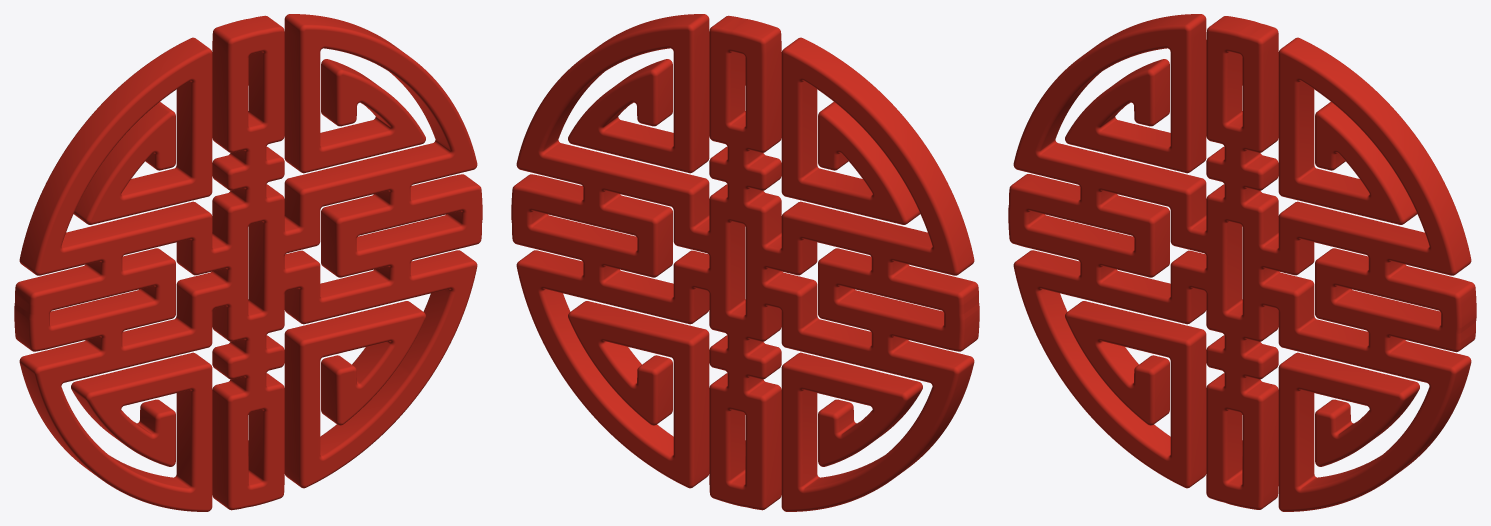
The model's file is shou-circular.glb.
3 views of the same model, side by side, from view 1: azimuth 30°, elevation 25°; view 2: azimuth 150°, elevation 25°; view 3: azimuth 330°, elevation 25° (orthographic).
Parts seen in each view (by area): view 1: geometry_0; view 2: geometry_0; view 3: geometry_0.
Boxes of the visible parts, bbox=[...] form: geometry_0: bbox=[14, 14, 482, 511]; geometry_0: bbox=[511, 14, 979, 511]; geometry_0: bbox=[1008, 14, 1476, 511].
Bounding box in the file's own units: 1 × 1 × 0.07.
